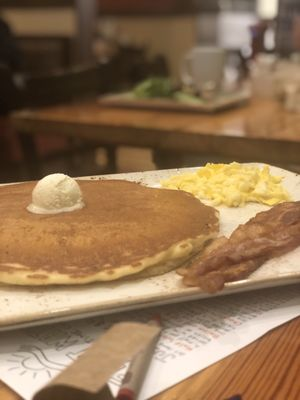soup: (0, 175, 223, 285)
